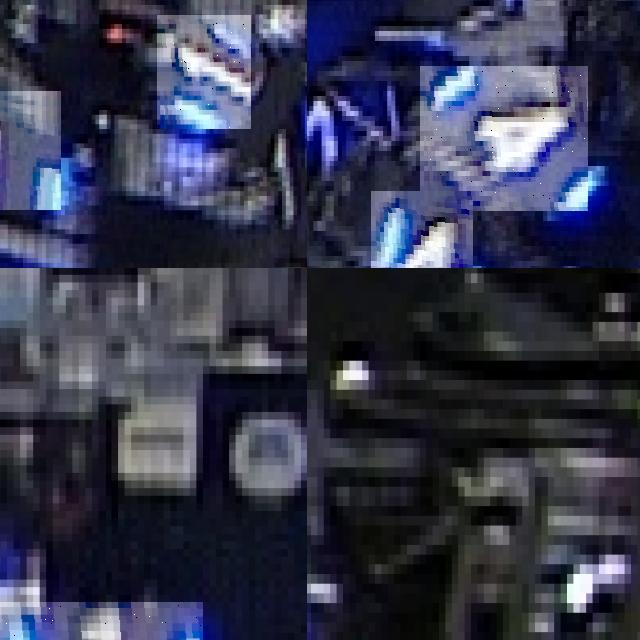B1: (157, 15, 251, 129), (0, 602, 203, 640), (0, 90, 61, 210)
R4: (420, 66, 588, 211), (370, 191, 473, 268)
